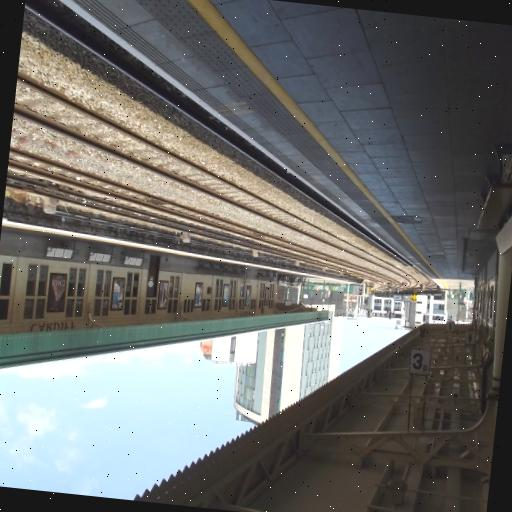platform_edge: (60, 0, 451, 245)
